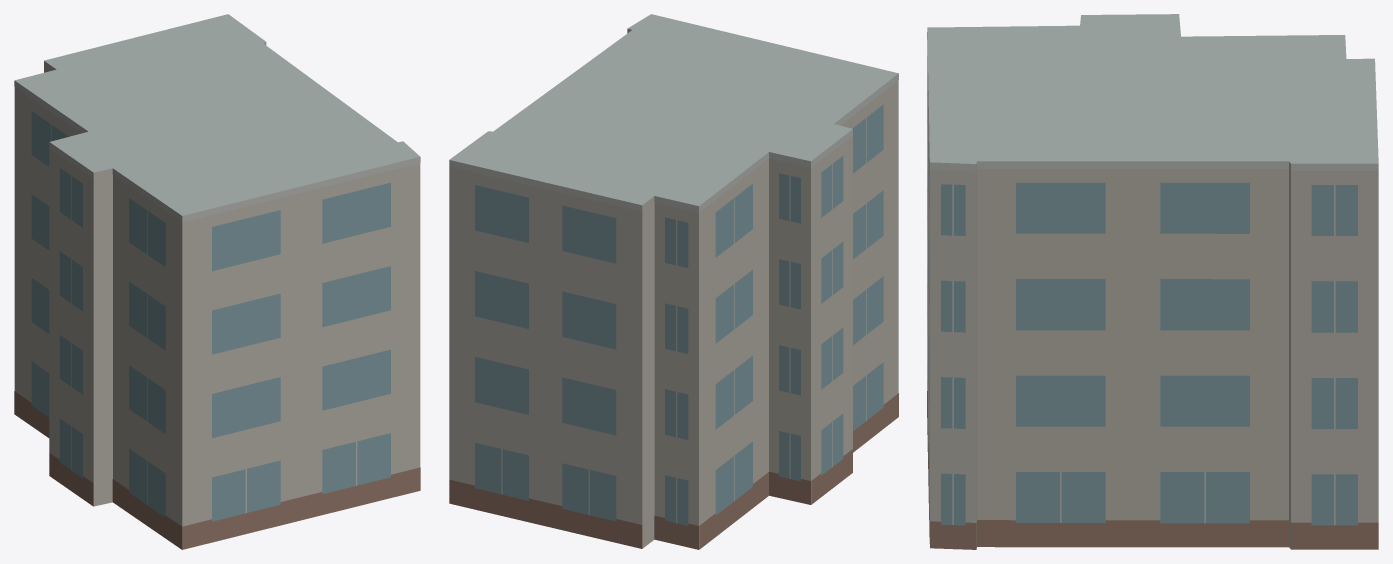
The model's file is survey-upis-32841450.glb.
3 views of the same model, side by side, from view 1: azimuth 30°, elevation 25°; view 2: azimuth 150°, elevation 25°; view 3: azimuth 270°, elevation 25° (orthographic). The views are drawn at different scales.
Parts seen in each view (by area): view 1: survey-upis-32841450.tmp; view 2: survey-upis-32841450.tmp; view 3: survey-upis-32841450.tmp.
Boxes of the visible parts, x1,y1,x2,y2 form: survey-upis-32841450.tmp: (14, 14, 420, 549); survey-upis-32841450.tmp: (449, 14, 898, 549); survey-upis-32841450.tmp: (927, 14, 1378, 549).
Bounding box in the file's own units: 10.6 × 12.7 × 13.48.
